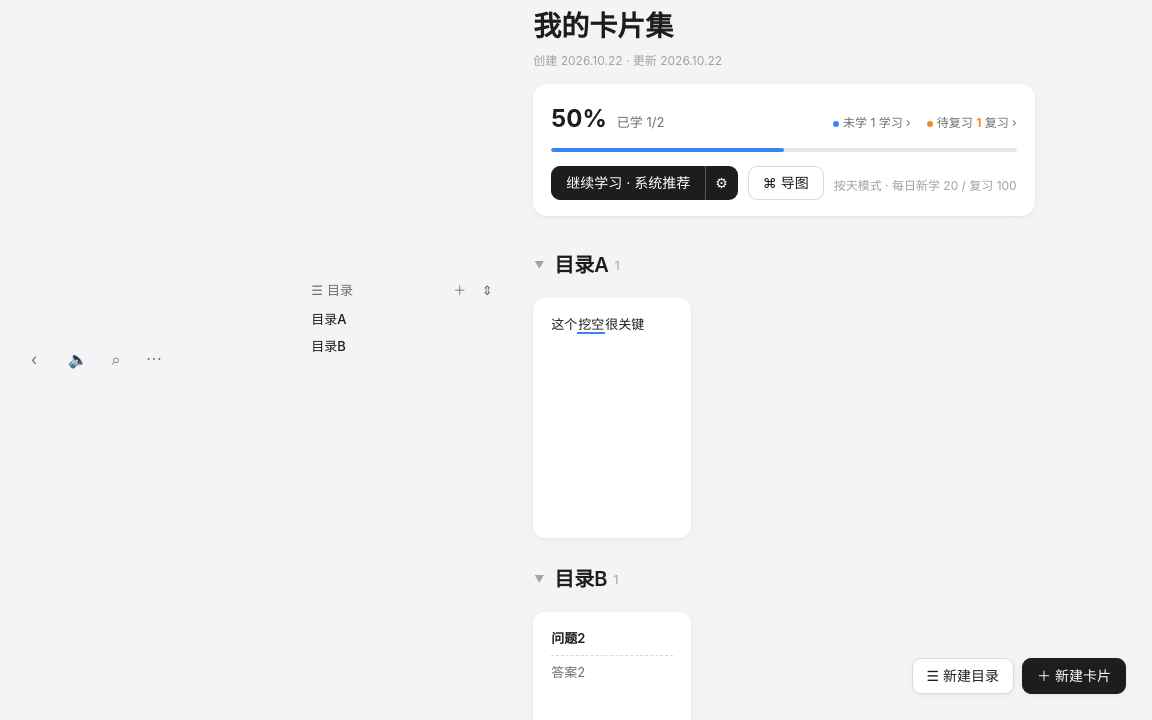
Test: 卡片集页 › 选中卡片按 Backspace：删除并出现撤销
Expected: the field showing "我的卡片集" is shown, [533, 4, 1035, 49]
Click the element with class "mini-card" showing "这个挖空很关键".
click(612, 418)  # box [533, 298, 691, 538]
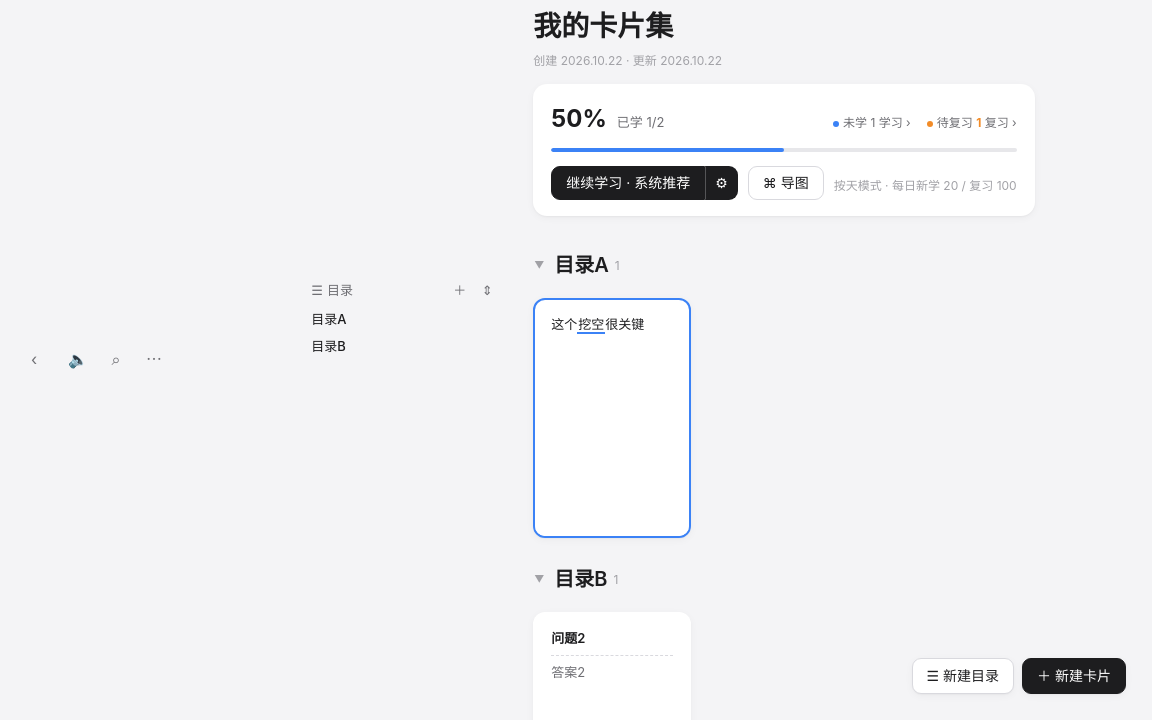
Press Backspace
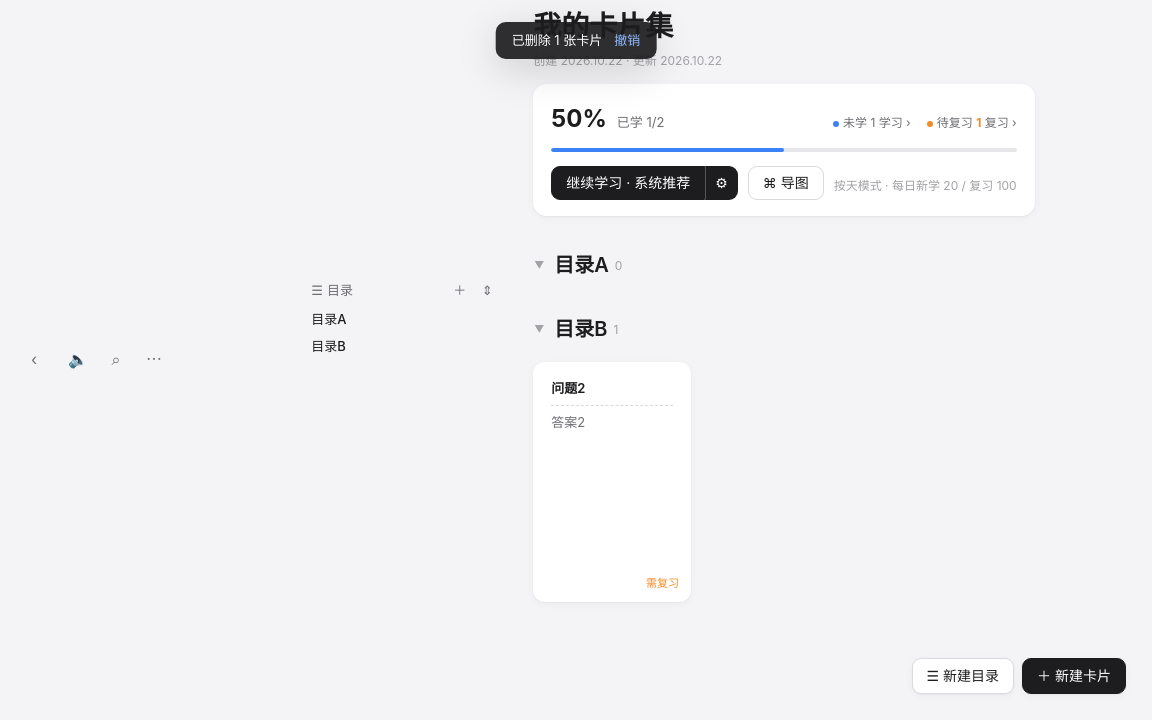
Expected: the button "撤销" is shown, [614, 30, 640, 51]
